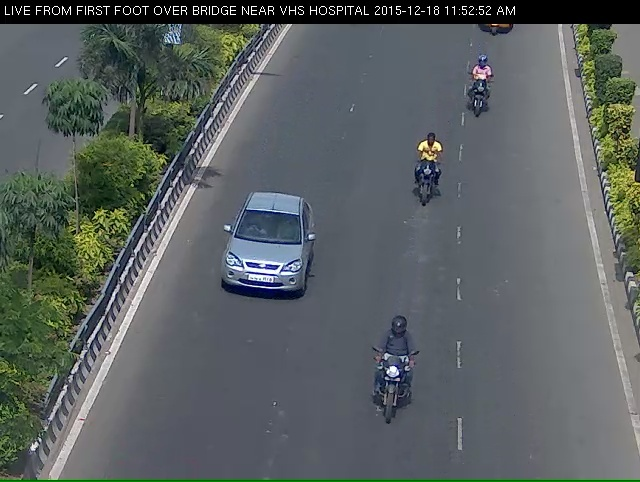Car: (206, 210, 311, 336)
Person: (366, 345, 416, 459), (409, 149, 443, 225), (466, 66, 497, 129)
